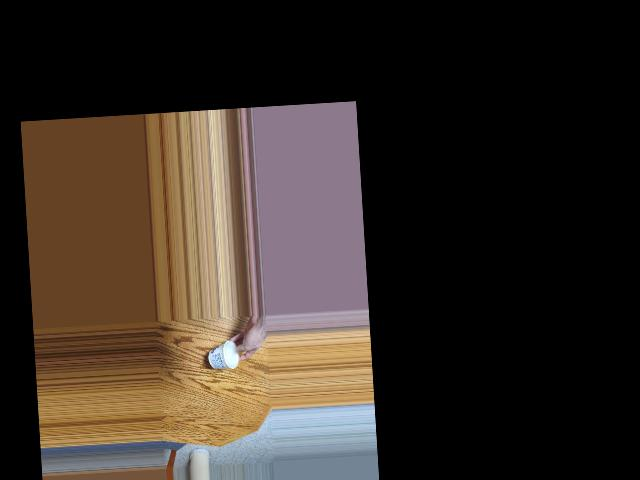cotage: (209, 339, 240, 372)
